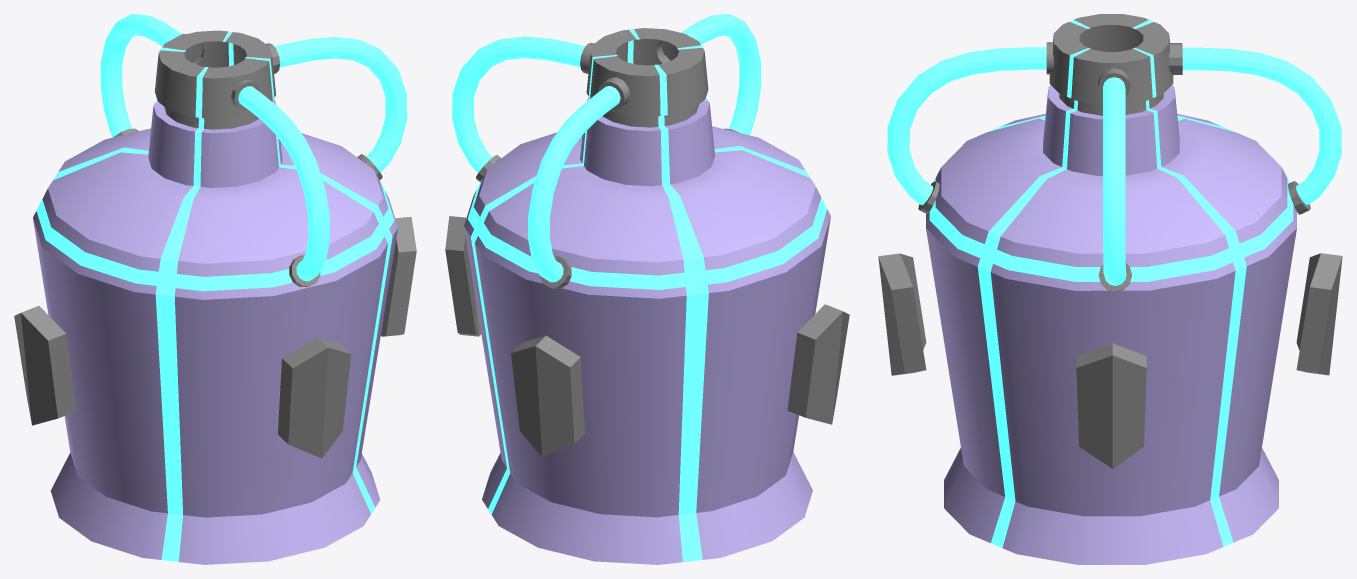
Rendered from zvukspodok.fbx.
3 renders of one model, left to right at view 1: azimuth 30°, elevation 25°; view 2: azimuth 150°, elevation 25°; view 3: azimuth 270°, elevation 25°, orthographic. The views are drawn at different scales.
Parts seen in each view (by area): view 1: Circle; view 2: Circle; view 3: Circle.
Boxes of the visible parts, box(x1,y1,x2,y2) form: Circle: box(14, 14, 416, 564); Circle: box(445, 14, 849, 564); Circle: box(878, 14, 1342, 564).
Size of the model in its own units: 331 by 356 by 329.
